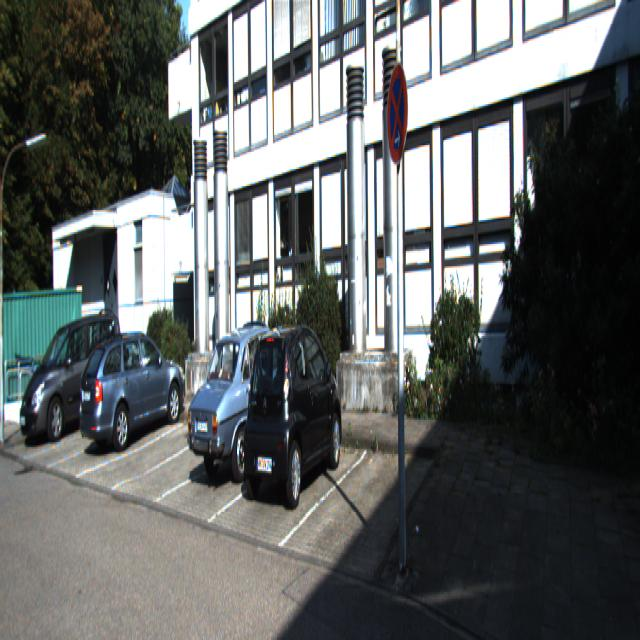Car: (183, 319, 305, 493), (240, 321, 345, 508), (14, 309, 121, 445), (74, 327, 183, 458)
